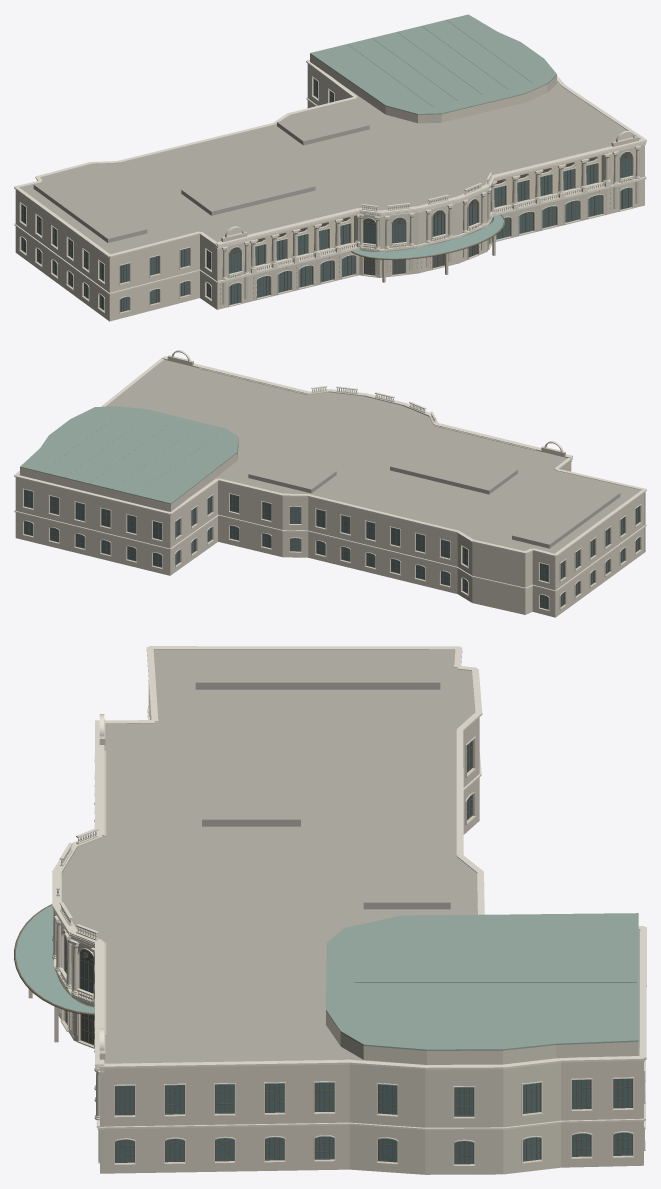
Rendered from huangpu-french-club-raw.glb.
3 renders of one model, top to bottom at view 1: azimuth 30°, elevation 25°; view 2: azimuth 150°, elevation 25°; view 3: azimuth 270°, elevation 25°, orthographic. The views are drawn at different scales.
Visible parts, largest first — view 1: 法国总会（花园饭店历史会所）; view 2: 法国总会（花园饭店历史会所）; view 3: 法国总会（花园饭店历史会所）.
Boxes of the visible parts, left/top/right/bottom form: 法国总会（花园饭店历史会所）: left=14, top=14, right=646, bottom=321; 法国总会（花园饭店历史会所）: left=14, top=350, right=646, bottom=617; 法国总会（花园饭店历史会所）: left=14, top=646, right=646, bottom=1174.
Size of the model in its own units: 107 by 15.16 by 67.76.
